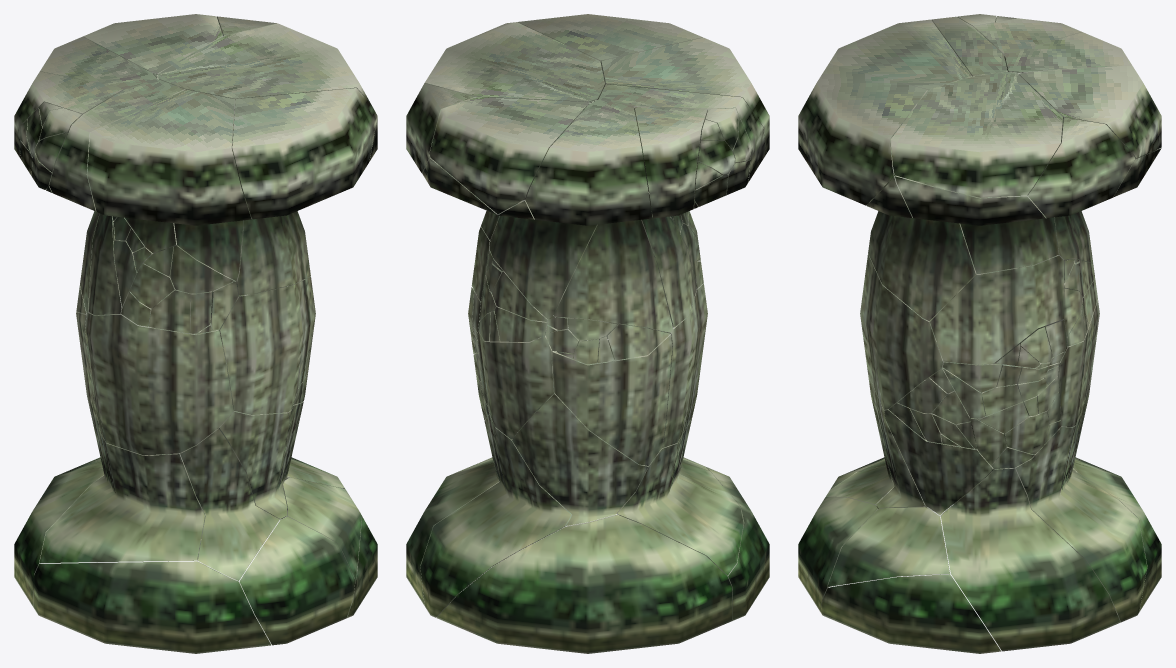
File: Pilastra Fracture.glb
3 views of the same model, side by side, from view 1: azimuth 30°, elevation 25°; view 2: azimuth 150°, elevation 25°; view 3: azimuth 270°, elevation 25° (orthographic).
Visible parts, largest first — view 1: shape1_material1_cell.032, shape1_material1_cell.018, shape1_material1_cell.037, shape1_material1_cell.006, shape1_material1_cell.028, shape1_material1_cell.017, shape1_material1_cell.024, shape1_material1_cell.033, shape1_material1_cell.027, shape1_material1_cell.020, shape1_material1_cell.009, shape1_material1_cell.003 (+21 smaller); view 2: shape1_material1_cell.030, shape1_material1_cell.013, shape1_material1_cell.031, shape1_material1_cell.003, shape1_material1_cell.017, shape1_material1_cell.019, shape1_material1_cell.026, shape1_material1_cell.028, shape1_material1_cell.002, shape1_material1_cell.040, shape1_material1_cell.032, shape1_material1_cell.011 (+21 smaller); view 3: shape1_material1_cell.004, shape1_material1_cell.017, shape1_material1_cell.006, shape1_material1_cell.013, shape1_material1_cell.021, shape1_material1_cell.012, shape1_material1_cell.009, shape1_material1_cell.010, shape1_material1_cell.003, shape1_material1_cell.033, shape1_material1_cell.001, shape1_material1_cell.023 (+26 smaller).
Part boxes in pixels (bbox=[...]): shape1_material1_cell.032: bbox=[87, 89, 251, 280]; shape1_material1_cell.018: bbox=[34, 561, 271, 653]; shape1_material1_cell.037: bbox=[85, 312, 233, 455]; shape1_material1_cell.006: bbox=[232, 88, 377, 219]; shape1_material1_cell.028: bbox=[39, 433, 205, 563]; shape1_material1_cell.017: bbox=[158, 23, 370, 102]; shape1_material1_cell.024: bbox=[239, 516, 355, 645]; shape1_material1_cell.033: bbox=[220, 276, 315, 414]; shape1_material1_cell.027: bbox=[180, 428, 279, 580]; shape1_material1_cell.020: bbox=[49, 79, 184, 253]; shape1_material1_cell.009: bbox=[236, 116, 377, 295]; shape1_material1_cell.003: bbox=[83, 14, 222, 73]; shape1_material1_cell.030: bbox=[437, 515, 732, 653]; shape1_material1_cell.013: bbox=[420, 414, 572, 617]; shape1_material1_cell.031: bbox=[525, 99, 652, 225]; shape1_material1_cell.003: bbox=[429, 97, 587, 214]; shape1_material1_cell.017: bbox=[425, 22, 604, 101]; shape1_material1_cell.019: bbox=[552, 334, 672, 465]; shape1_material1_cell.026: bbox=[512, 393, 648, 525]; shape1_material1_cell.028: bbox=[616, 418, 743, 575]; shape1_material1_cell.002: bbox=[553, 220, 672, 332]; shape1_material1_cell.040: bbox=[489, 200, 596, 319]; shape1_material1_cell.032: bbox=[600, 37, 769, 192]; shape1_material1_cell.011: bbox=[634, 106, 707, 218]; shape1_material1_cell.004: bbox=[940, 468, 1120, 651]; shape1_material1_cell.017: bbox=[890, 71, 1062, 197]; shape1_material1_cell.006: bbox=[798, 64, 927, 205]; shape1_material1_cell.013: bbox=[1015, 425, 1147, 622]; shape1_material1_cell.021: bbox=[930, 255, 1063, 364]; shape1_material1_cell.012: bbox=[820, 574, 1001, 653]; shape1_material1_cell.009: bbox=[866, 176, 976, 321]; shape1_material1_cell.010: bbox=[895, 175, 1058, 273]; shape1_material1_cell.003: bbox=[1019, 65, 1161, 158]; shape1_material1_cell.033: bbox=[860, 254, 943, 409]; shape1_material1_cell.001: bbox=[828, 506, 949, 586]; shape1_material1_cell.023: bbox=[1027, 117, 1135, 217].
Size of the model in its own units: 2 by 3 by 2.
2 materials, 2 textured.
